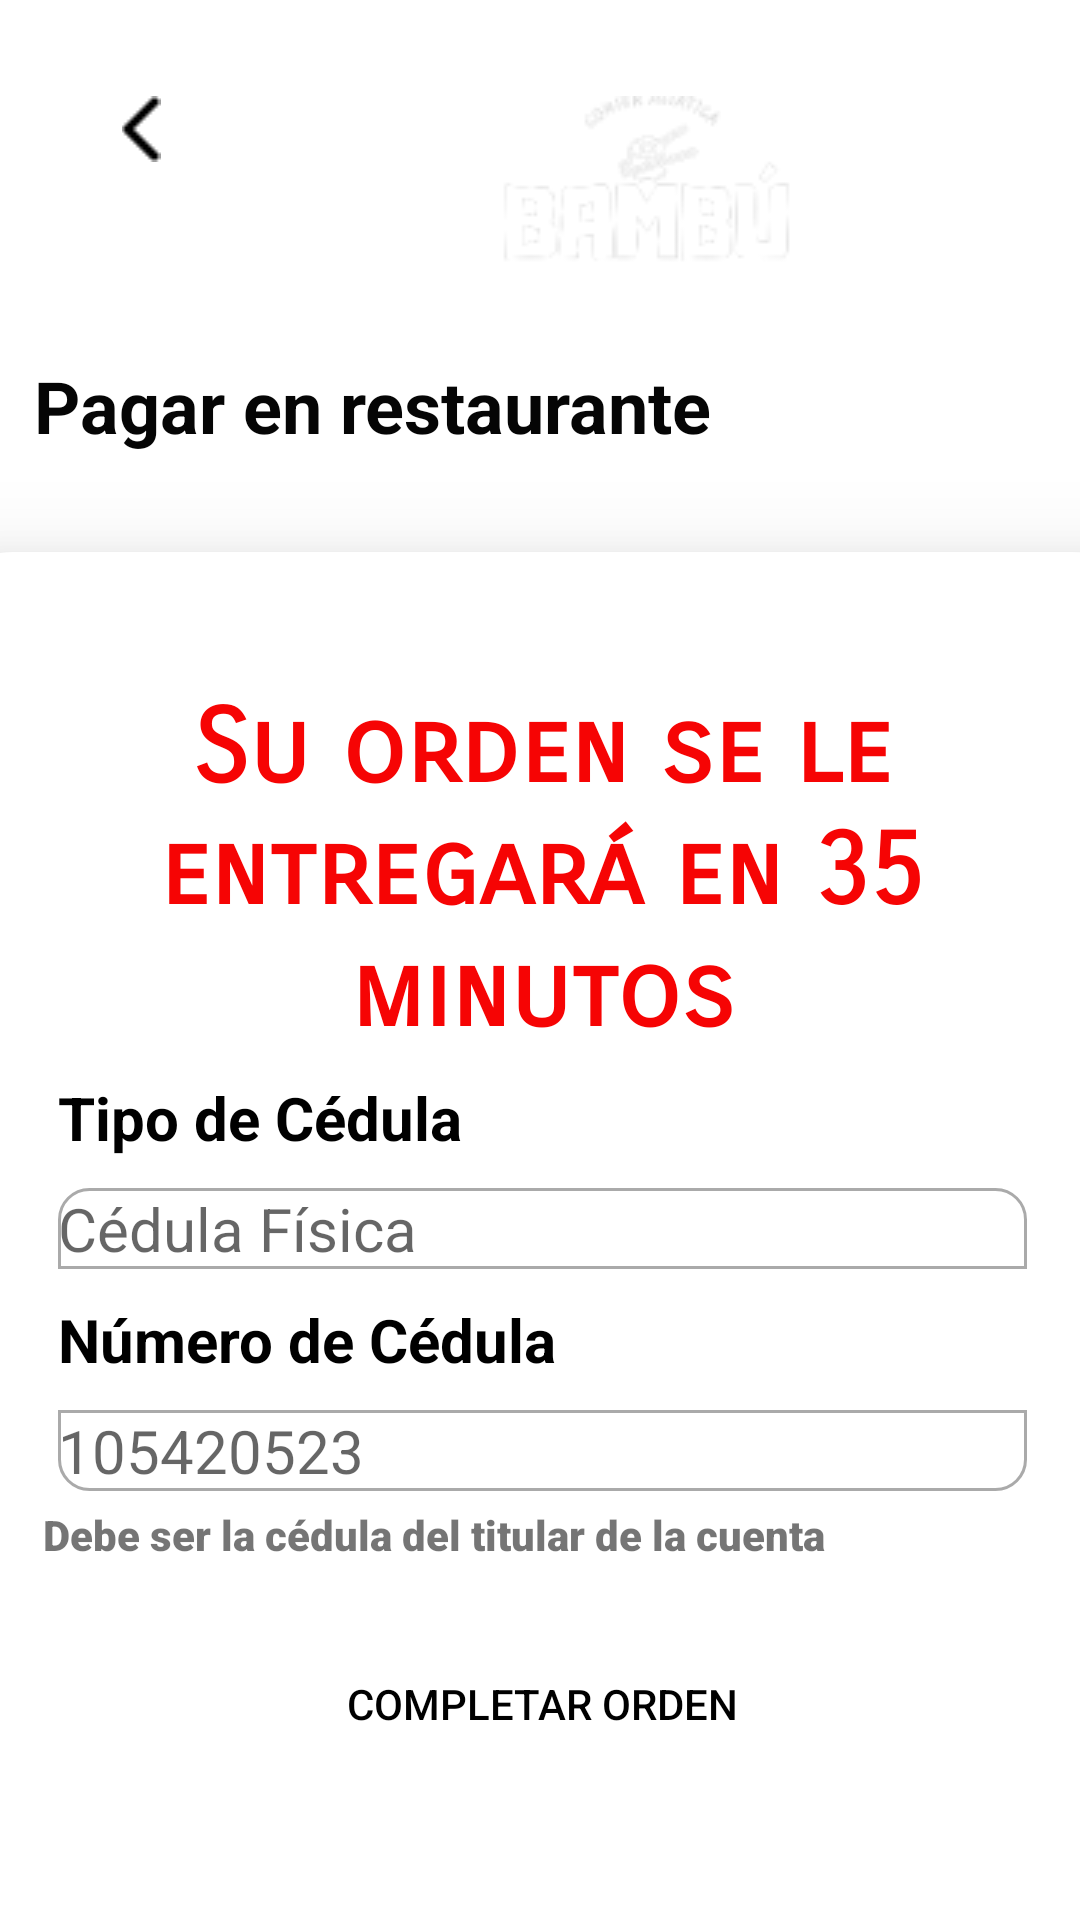

Icons on this 1080*1920 Android screen, each with its box as {"x1": x1, "y1": y1, "x2": x2, "y2": y2}:
regre: {"x1": 122, "y1": 96, "x2": 161, "y2": 162}
